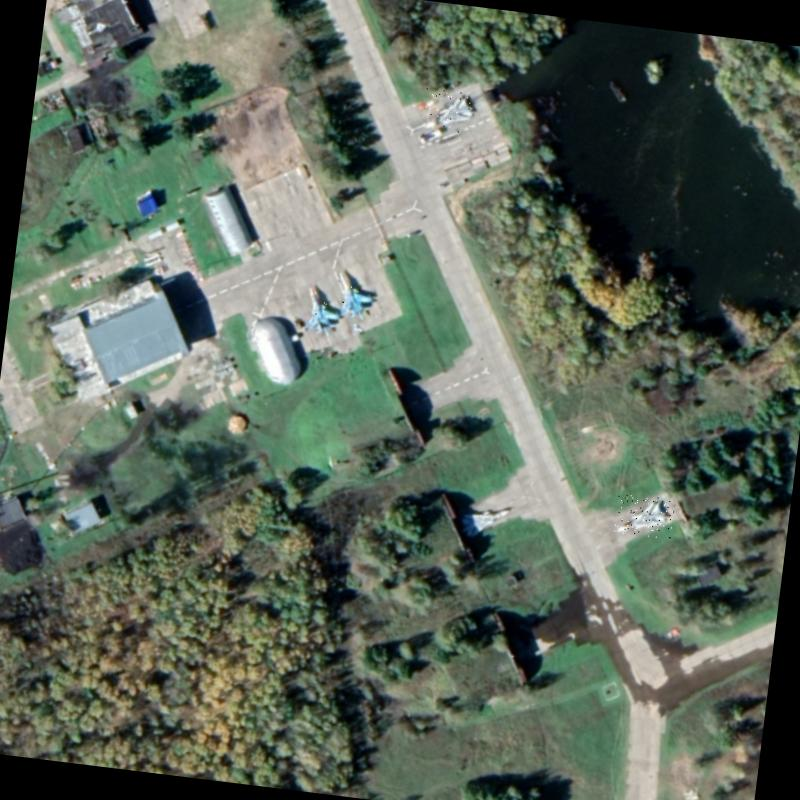A19: (332, 266, 384, 324), (303, 282, 346, 336)
A20: (421, 87, 481, 134), (614, 492, 674, 539), (460, 499, 514, 542)
